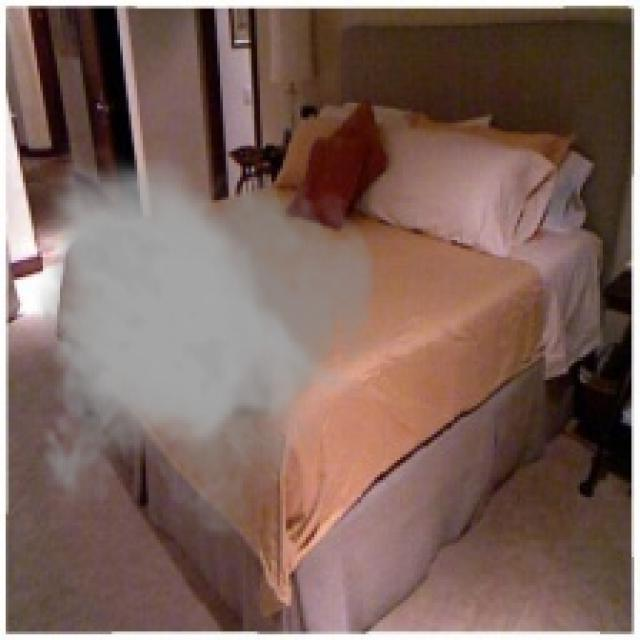Smoke: (31, 142, 380, 538)
